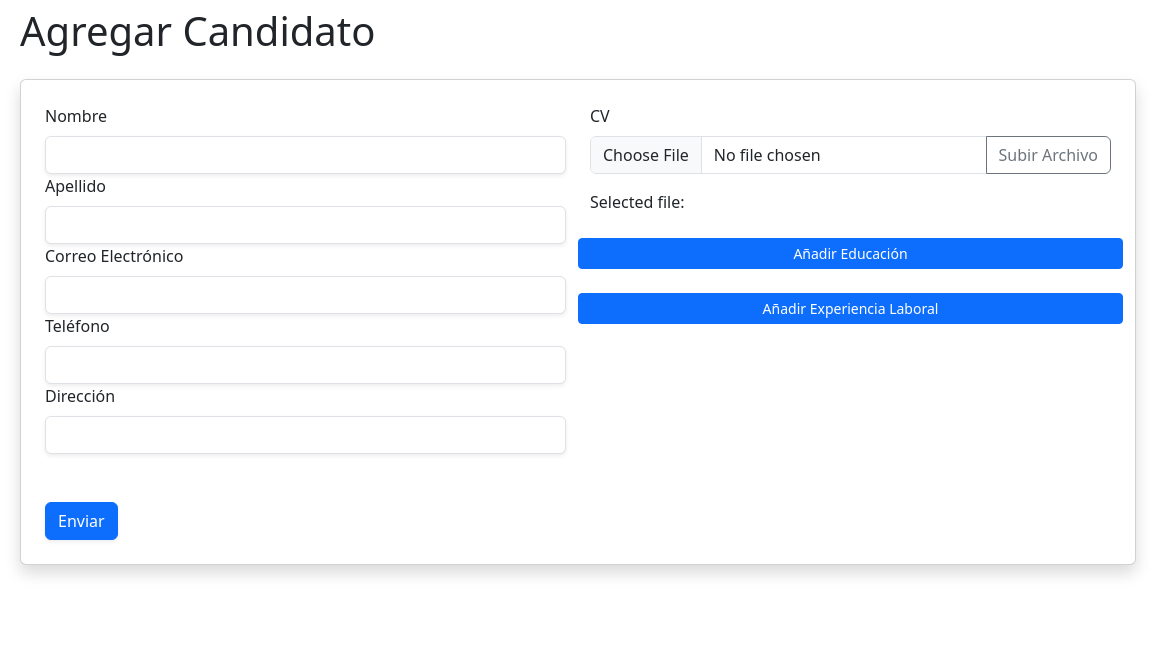
Scenario: AddCandidateForm Component › Manejo de Secciones Dinámicas - Educación › debe_anadir_nueva_educacion_al_hacer_clic
Click the button "Añadir Educación" at (850, 254), box [578,238,1123,269]
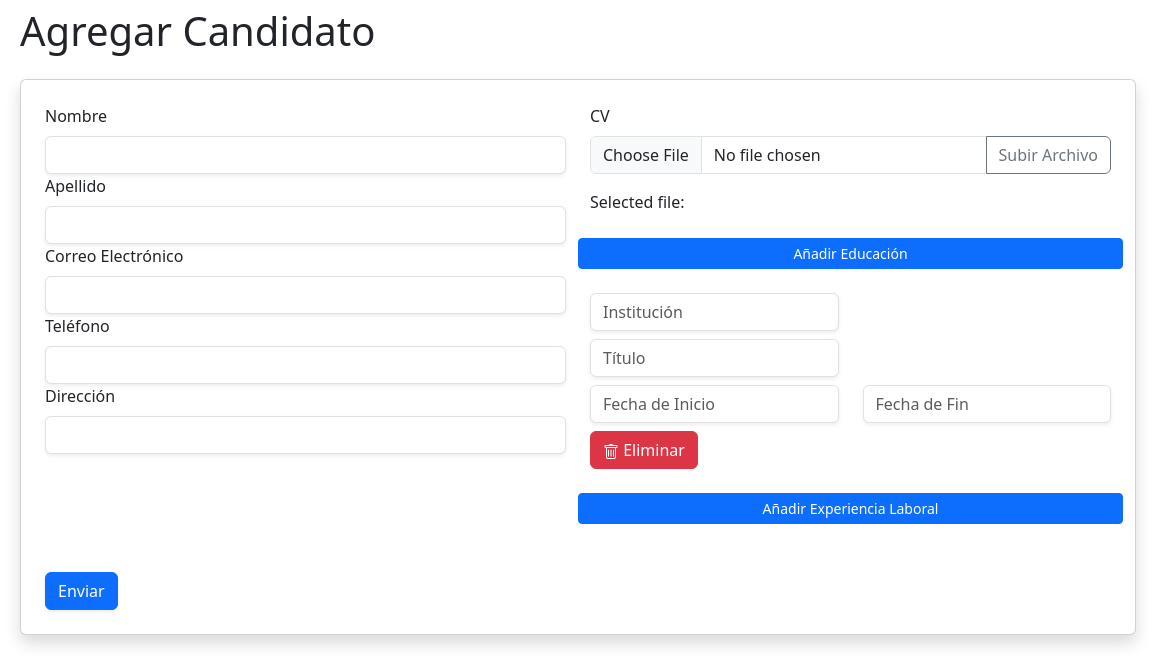
Now the field with placeholder "Institución" is shown, box [590,293,838,331]
Now the field with placeholder "Título" is shown, box [590,339,838,377]
